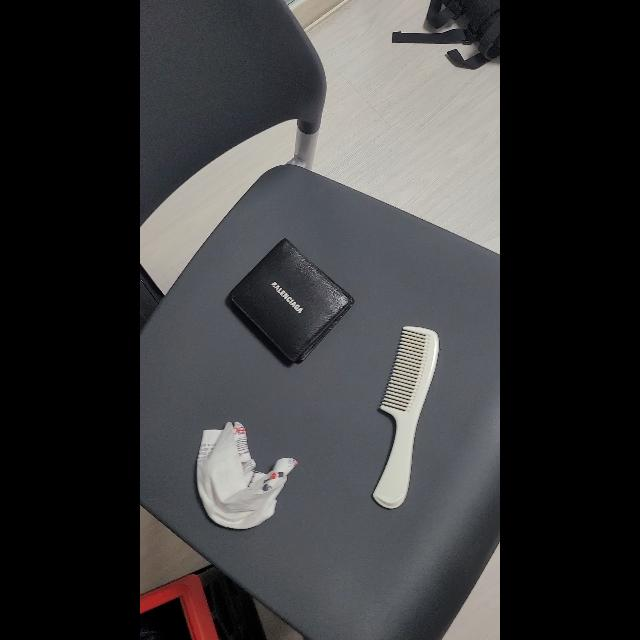COMB: (372, 325, 440, 509)
Glasses cleaning cloth: (195, 420, 299, 530)
WALLET: (227, 238, 356, 364)
